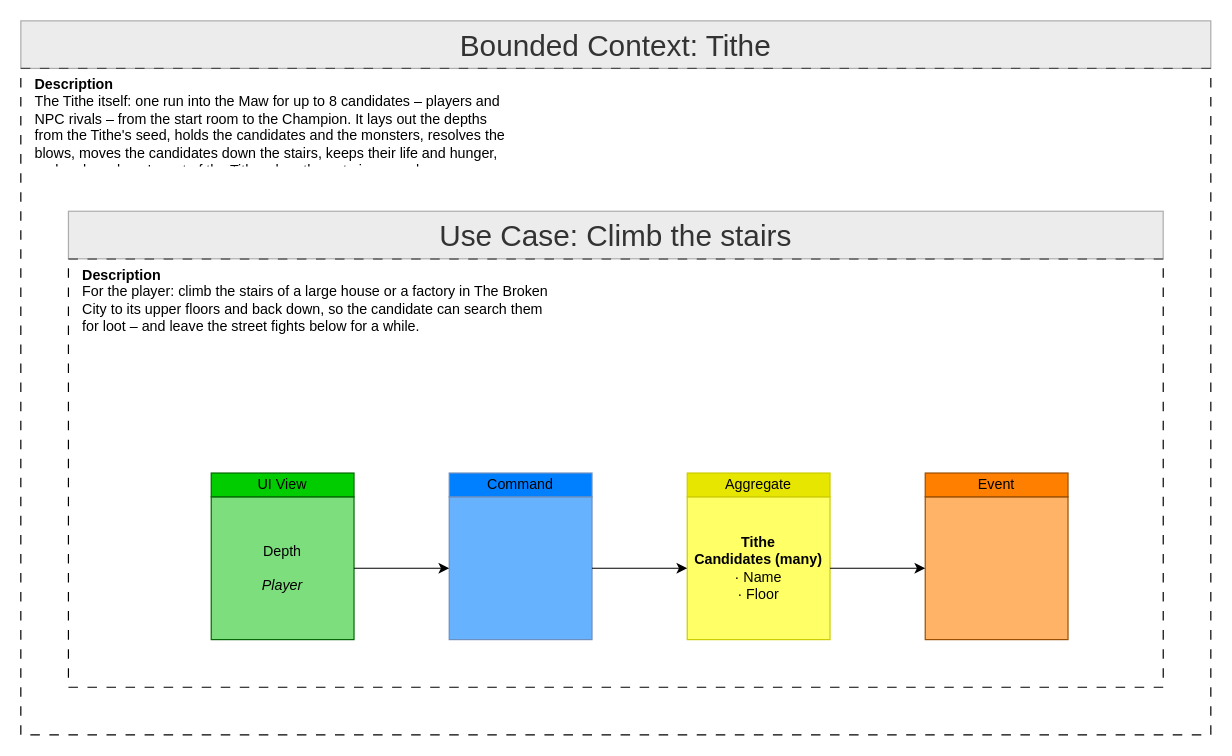
Image size: 1232x756. Some labels were removed from this diagram. Each missing label, with the centre of its shape:
"Climb the stairs" goes at pixel 520 568.
"Floor reached" goes at pixel 996 568.
